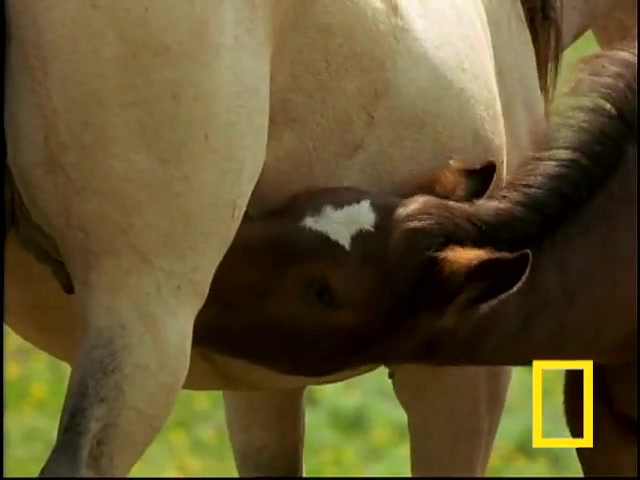horse: (194, 38, 638, 479)
